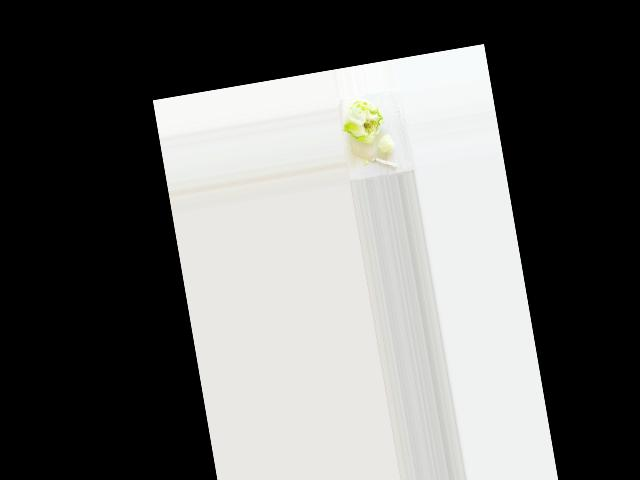lettuce: (340, 92, 386, 142)
